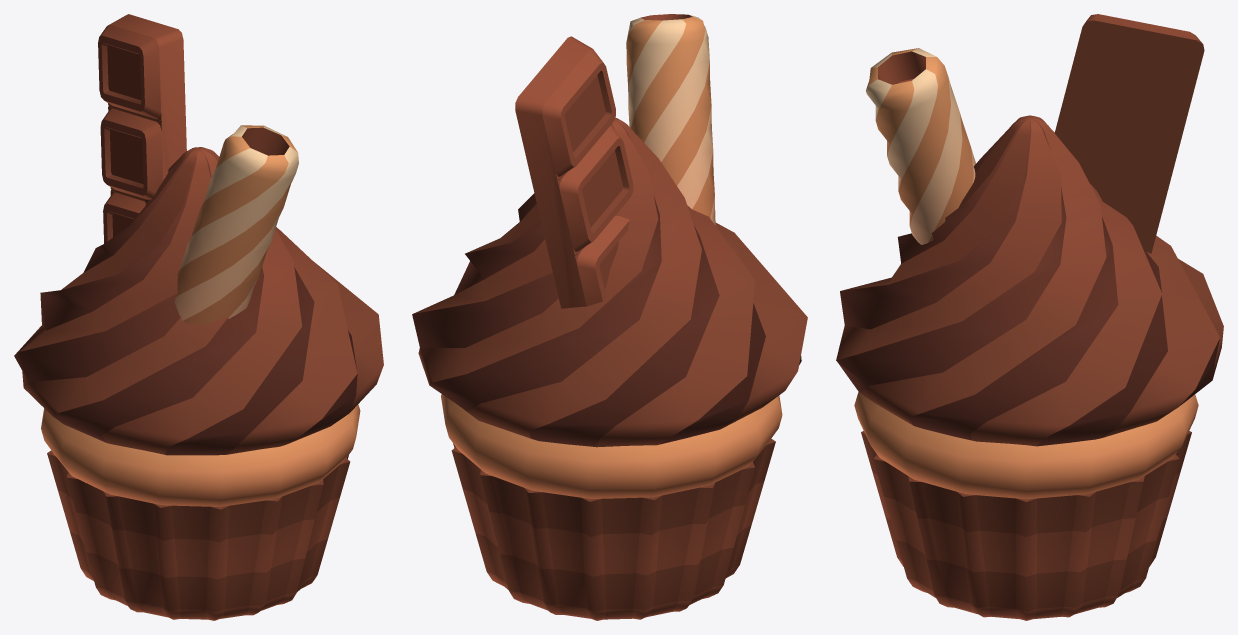
Rendered from Cupcake_Chocalate_V2_00.fbx.
3 views of the same model, side by side, from view 1: azimuth 30°, elevation 25°; view 2: azimuth 150°, elevation 25°; view 3: azimuth 270°, elevation 25° (orthographic). The views are drawn at different scales.
Parts seen in each view (by area): view 1: Cupcake_Chocalate_V2_00; view 2: Cupcake_Chocalate_V2_00; view 3: Cupcake_Chocalate_V2_00.
Part boxes in pixels (x1,y1,x2,y2): Cupcake_Chocalate_V2_00: (14, 14, 383, 620); Cupcake_Chocalate_V2_00: (412, 14, 807, 620); Cupcake_Chocalate_V2_00: (836, 14, 1223, 620).
Bounding box in the file's own units: 36.59 × 58.39 × 36.6.
